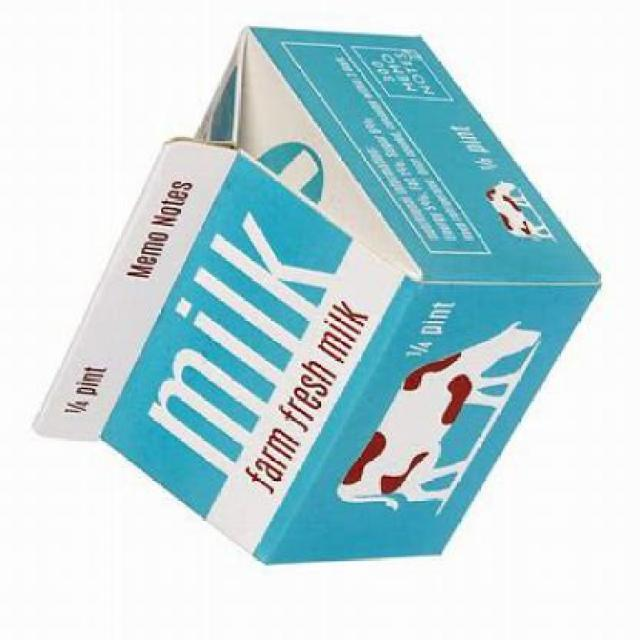non_white_jug: (68, 16, 614, 606)
